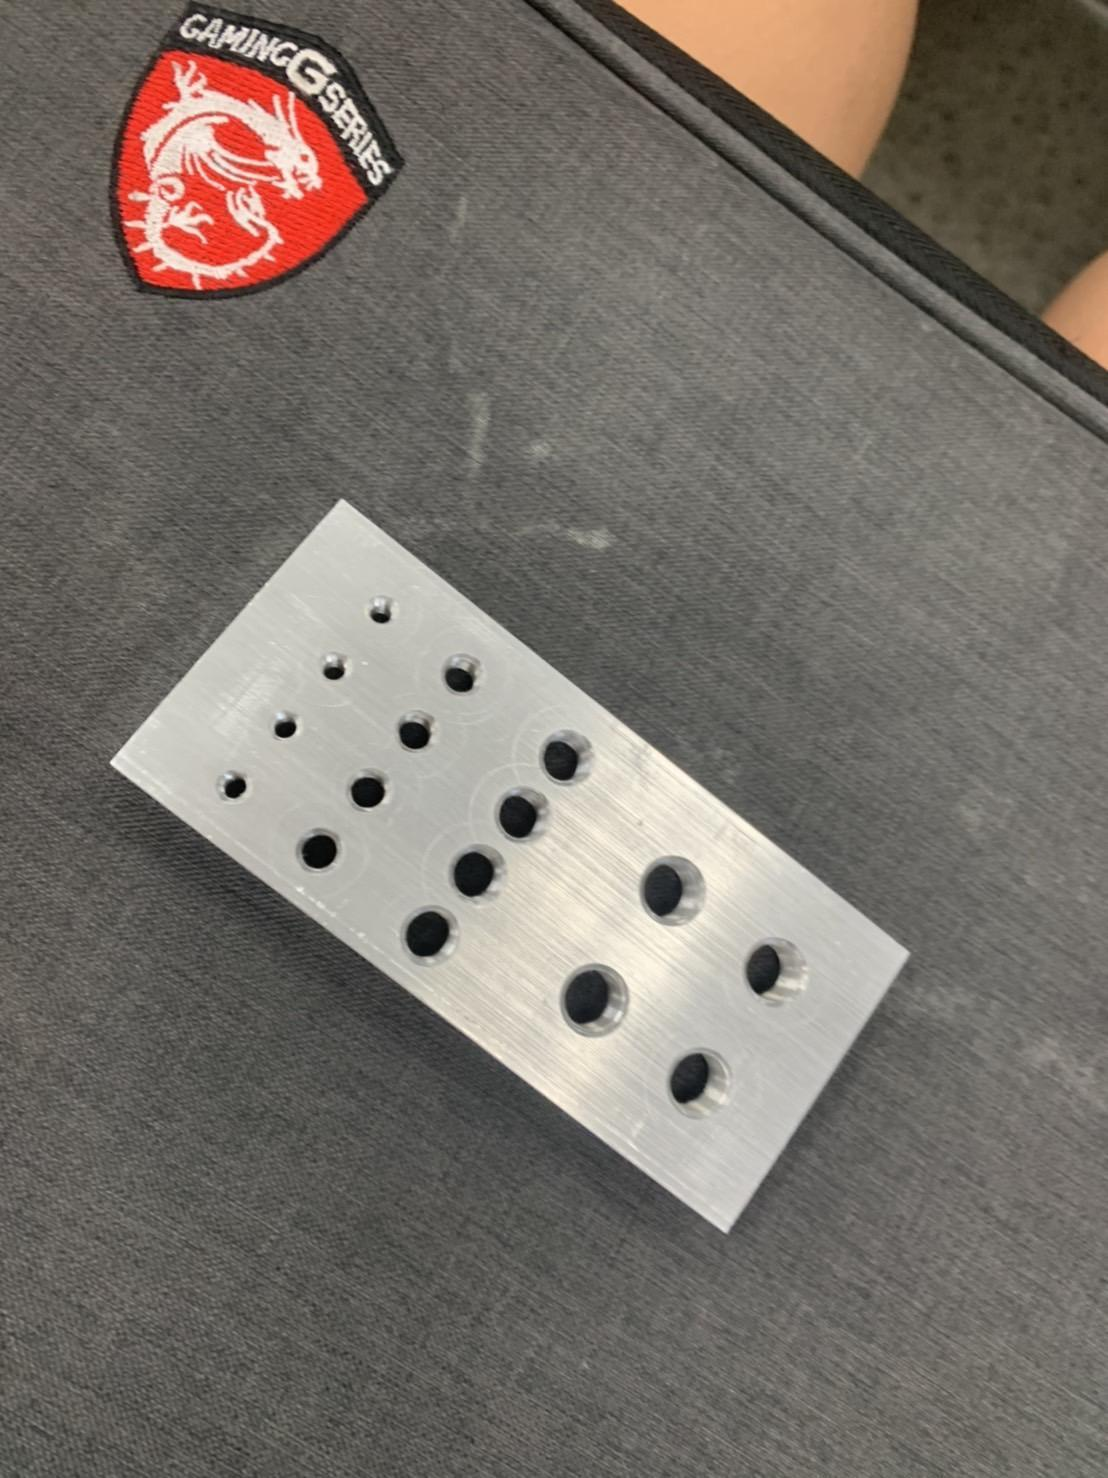hole: (549, 960, 639, 1051), (729, 933, 808, 1021), (655, 1040, 733, 1125), (627, 851, 710, 926), (533, 723, 592, 784), (443, 846, 506, 902), (488, 786, 549, 839), (402, 908, 459, 965), (291, 826, 345, 881), (345, 769, 393, 816), (391, 711, 440, 756), (436, 654, 488, 696), (212, 766, 254, 806), (365, 591, 400, 631), (311, 651, 350, 684), (269, 708, 305, 742)
